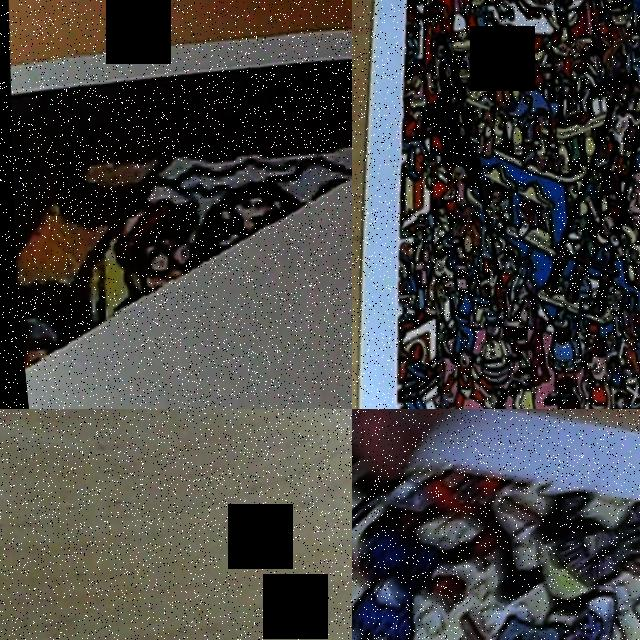waldo: (98, 196, 206, 324), (439, 214, 458, 241)
